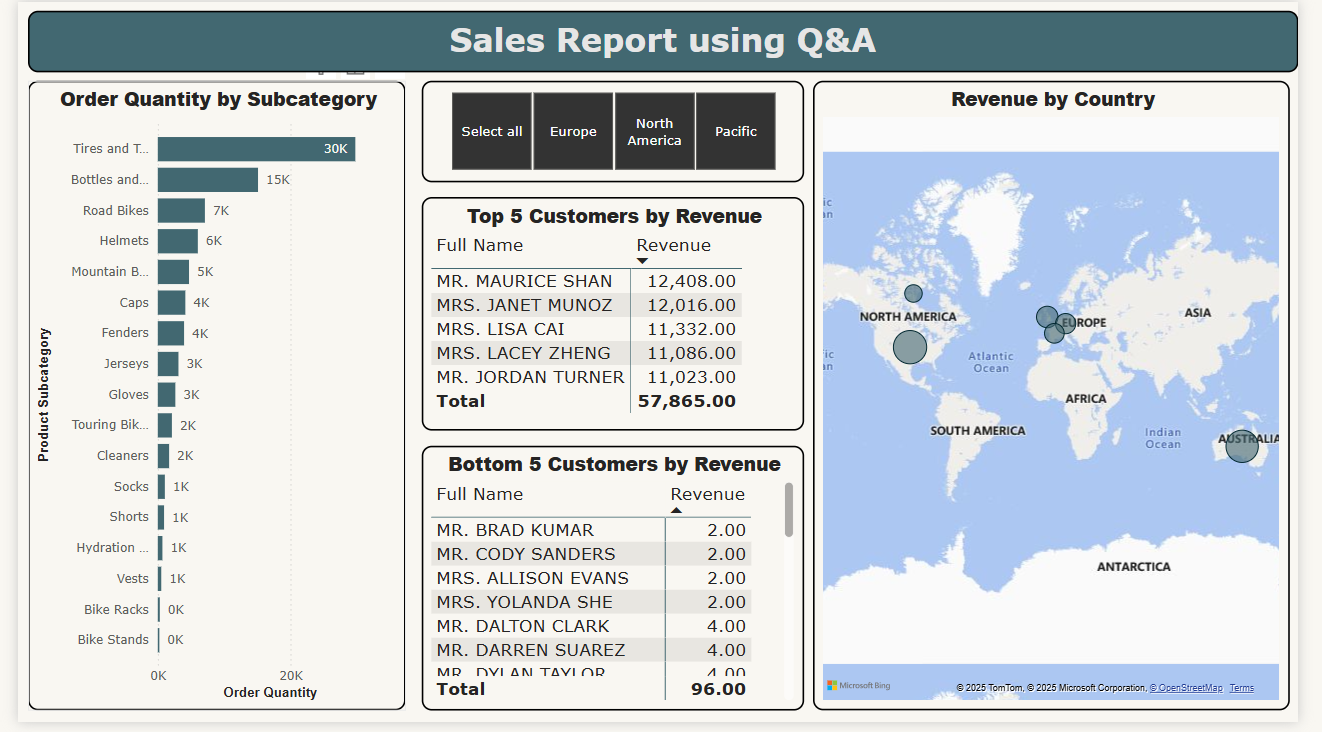

The page's visual inventory and layout, read from the dashboard file:
{"tool":"powerbi","page":{"name":"NLQ","canvas":[1280,720],"ordinal":2},"visuals":[{"type":"clusteredBarChart","title":"Order Quantity by Subcategory","fields":{"Category":["d-Product_Subcategories.SubcategoryName"],"Y":["Sum(f-Sales.OrderQuantity)"]},"box":[9.7,78.4,377.6,629.8],"z":0},{"type":"pivotTable","title":"Top 5 Customers by Revenue","fields":{"Rows":["d-Customers.Full Name"],"Values":["Sum(f-Sales.Revenue)"]},"box":[403.4,195.3,382,233.8],"z":1000},{"type":"pivotTable","title":"Bottom 5 Customers by Revenue","fields":{"Rows":["d-Customers.Full Name"],"Values":["Sum(f-Sales.Revenue)"]},"box":[403.4,443.3,382,265.1],"z":2000},{"type":"map","title":"Revenue by Country","fields":{"Category":["d-Territories.Country"],"Size":["All_Measures (2).M_Revenue"]},"box":[795,78.4,476.5,629.8],"z":3000},{"type":"textbox","box":[9.7,8.4,1270.4,61.5],"z":4000},{"type":"slicer","fields":{"Values":["d-Territories.Continent"]},"box":[404,78.5,382.4,101.3],"z":5000}]}

Visuals, with their boxes in screenshot pixels (x1, y1, x2, y2), scaled from the page's 1280x720 canvas onto the 1322x732 screenshot:
"Order Quantity by Subcategory" clusteredBarChart: bbox=(10, 80, 400, 720)
"Top 5 Customers by Revenue" pivotTable: bbox=(417, 199, 811, 436)
"Bottom 5 Customers by Revenue" pivotTable: bbox=(417, 451, 811, 720)
"Revenue by Country" map: bbox=(821, 80, 1313, 720)
textbox: bbox=(10, 9, 1321, 71)
slicer - d-Territories.Continent: bbox=(417, 80, 812, 183)
